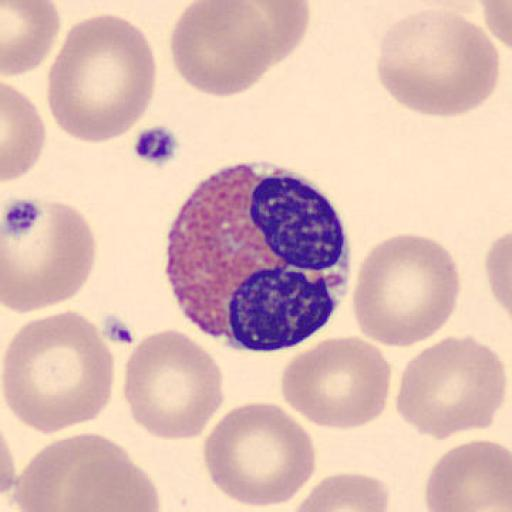Platelet: (131, 122, 183, 169)
RBC: (45, 12, 158, 145), (1, 308, 116, 435), (375, 7, 501, 119), (352, 231, 462, 349), (202, 399, 317, 509), (395, 334, 508, 440), (122, 328, 226, 442), (2, 198, 98, 314), (280, 334, 393, 432), (10, 430, 142, 512), (168, 0, 274, 99), (424, 437, 512, 512), (58, 457, 162, 512), (229, 0, 312, 63), (2, 0, 61, 78), (2, 82, 46, 183), (290, 471, 394, 512), (255, 0, 312, 65), (483, 227, 512, 322), (478, 0, 512, 54), (0, 430, 17, 504)
WBC: (164, 159, 351, 353)
